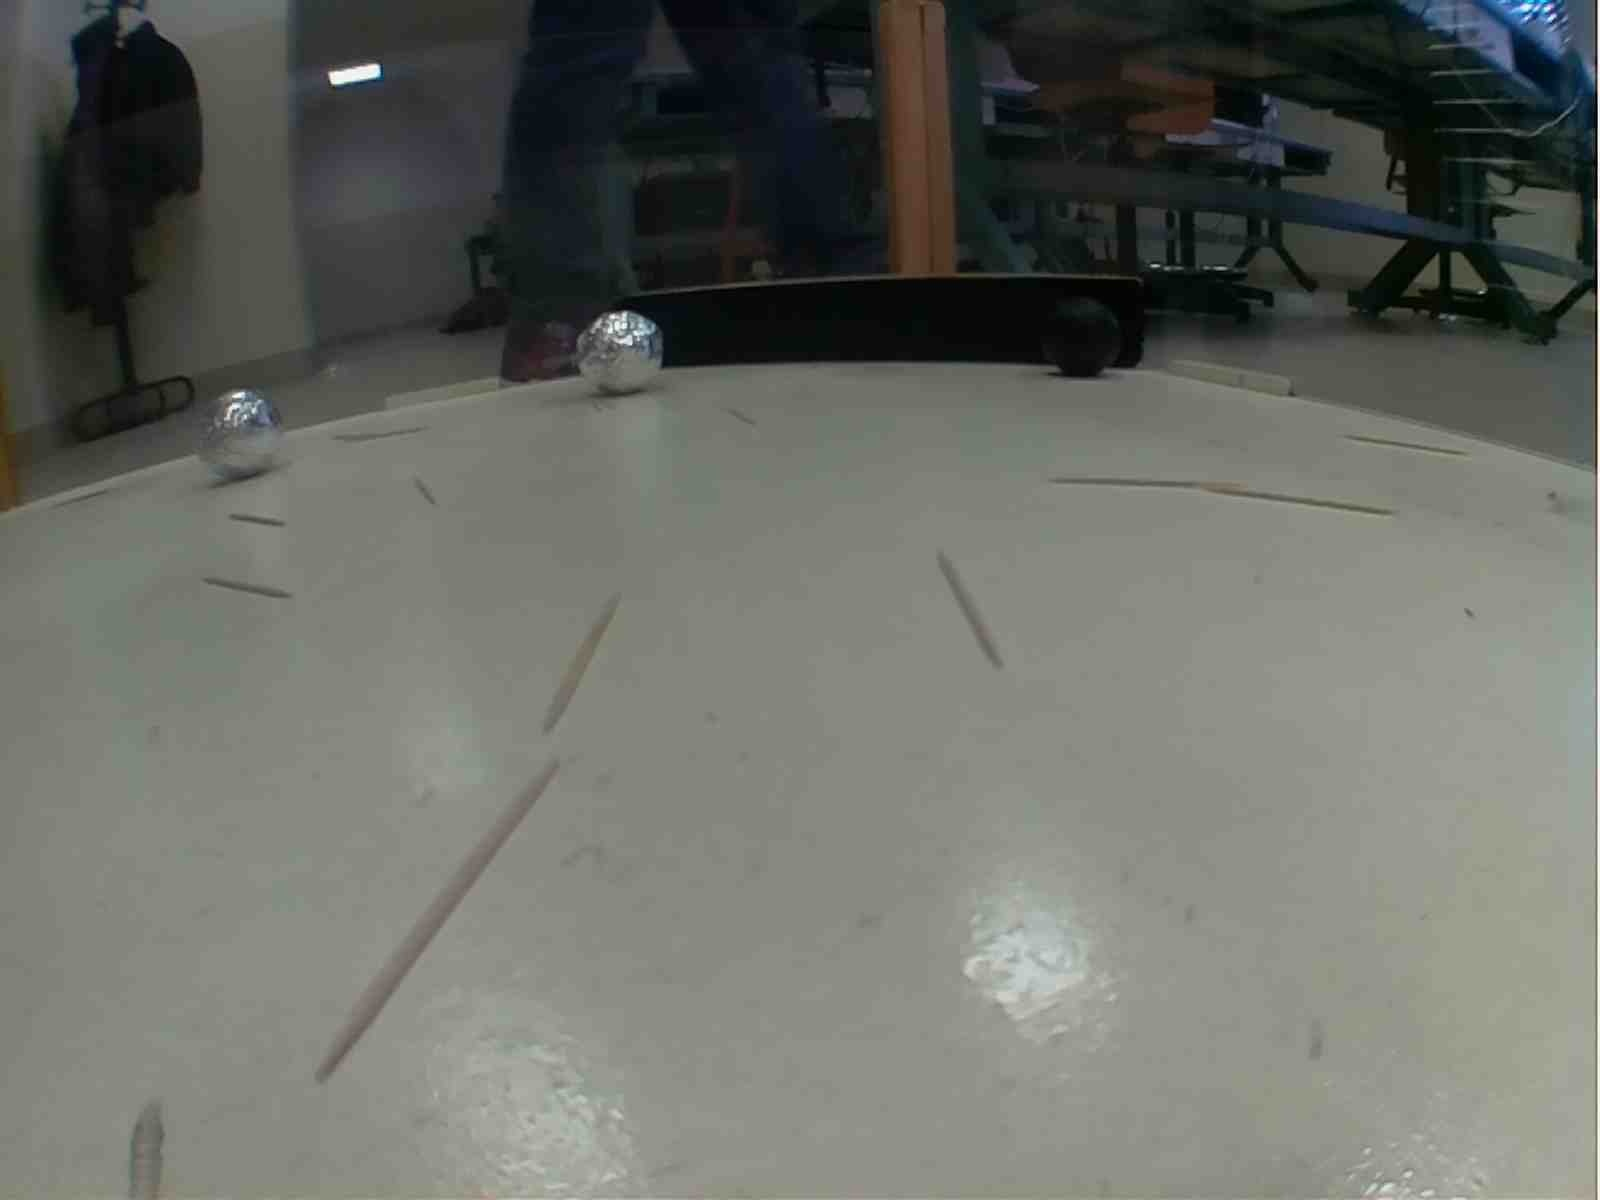bianca: (193, 388, 282, 479), (574, 311, 665, 395)
